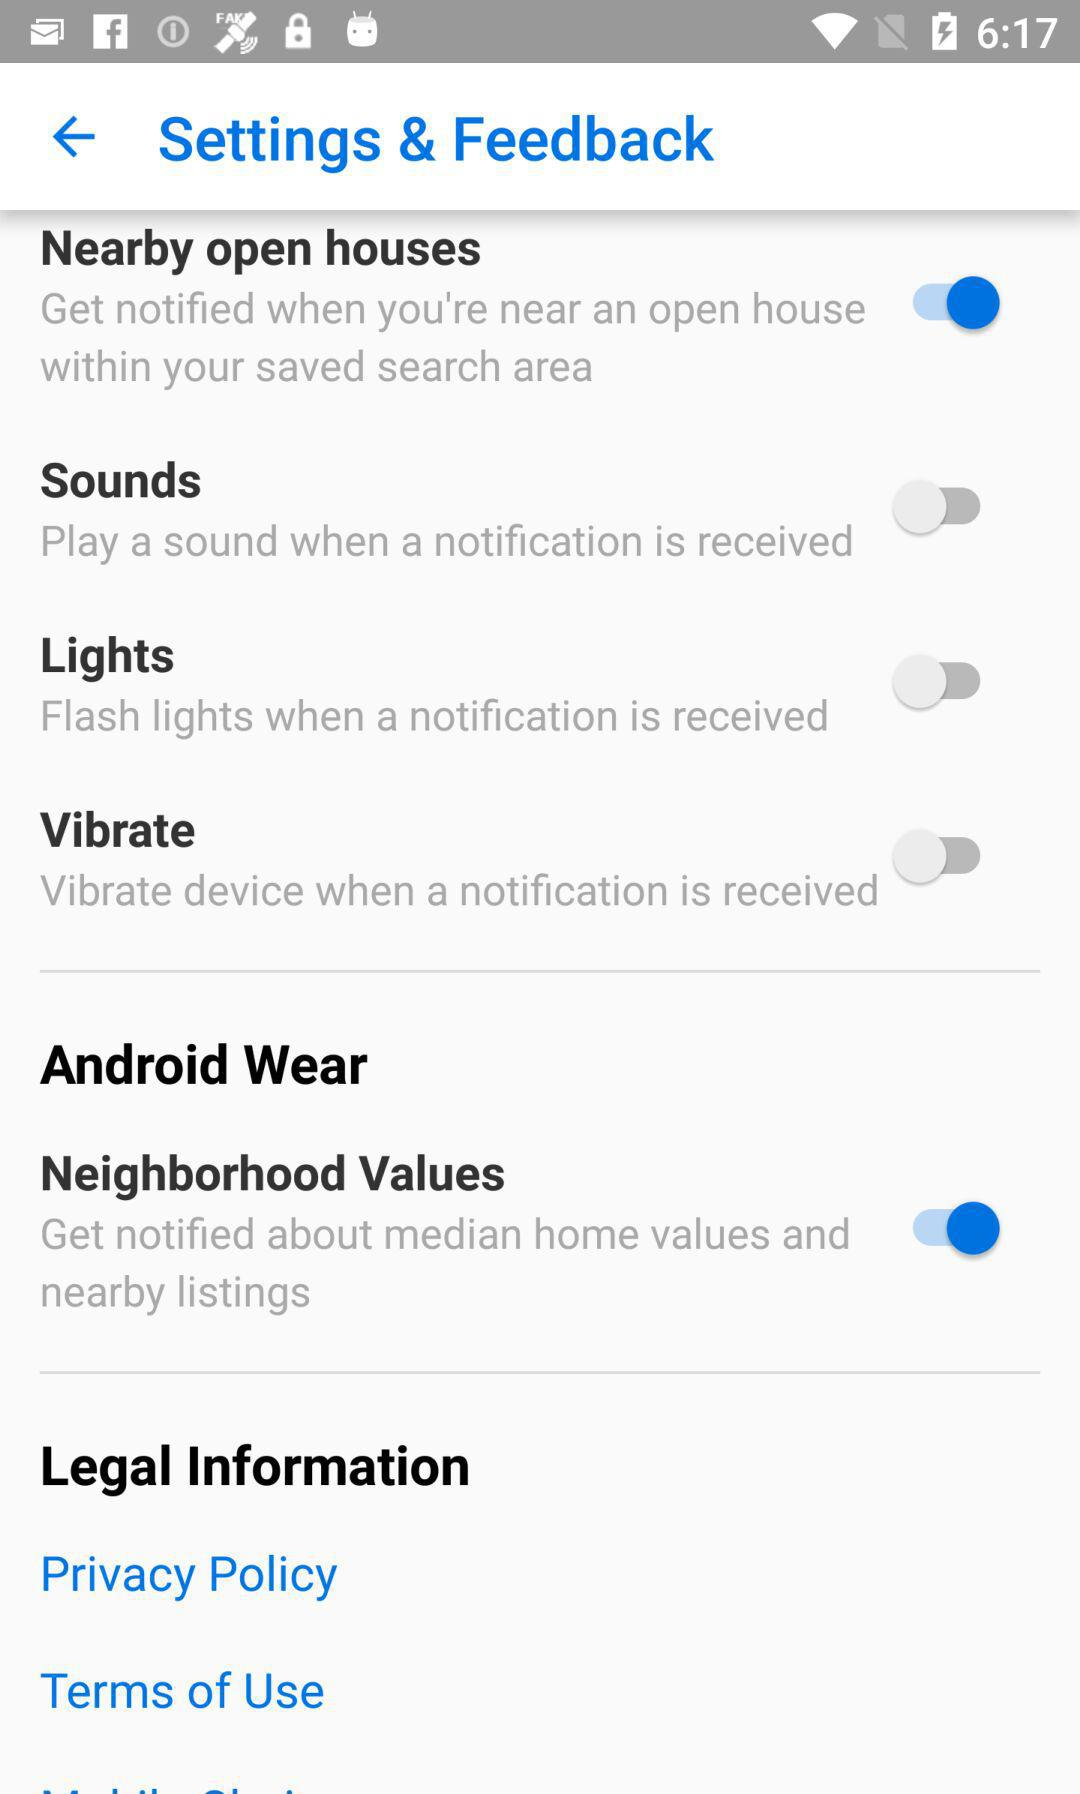Icon: (53, 115, 97, 159)
Switch: (890, 828, 983, 887), (890, 654, 983, 712), (890, 479, 983, 537), (912, 1199, 1001, 1257), (912, 276, 1001, 333)
Text: (41, 1214, 851, 1319), (41, 290, 867, 392), (42, 524, 853, 566), (42, 697, 829, 741), (160, 115, 715, 176), (40, 871, 879, 909), (44, 1442, 470, 1498), (44, 1153, 506, 1203), (44, 228, 482, 278), (40, 1041, 370, 1085), (44, 1553, 340, 1602), (40, 1670, 325, 1709), (40, 459, 204, 500), (42, 636, 176, 686), (38, 810, 197, 850)
Toolbar: (1, 64, 1080, 211)
UpperTaskBar: (1, 1, 1080, 64)
